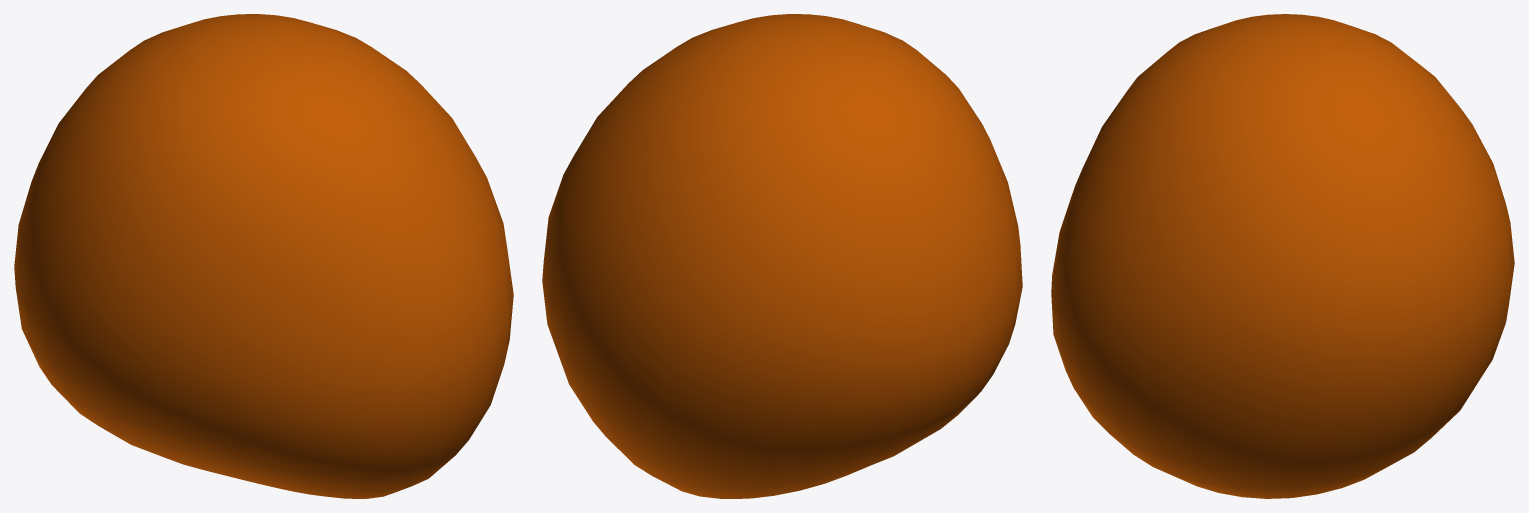
File: たまこん.fbx
3 renders of one model, left to right at view 1: azimuth 30°, elevation 25°; view 2: azimuth 150°, elevation 25°; view 3: azimuth 270°, elevation 25°, orthographic. The views are drawn at different scales.
Parts seen in each view (by area): view 1: 球; view 2: 球; view 3: 球.
Boxes of the visible parts, box(x1,y1,x2,y2) form: 球: box(14, 14, 513, 498); 球: box(542, 14, 1022, 498); 球: box(1051, 14, 1514, 498).
Bounding box in the file's own units: 200 × 201 × 202.
